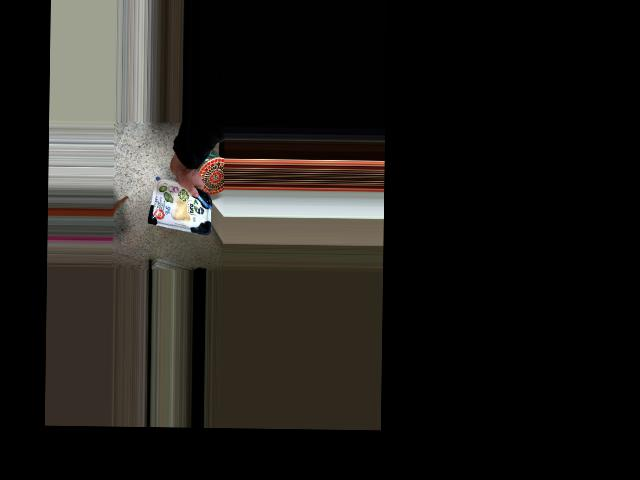cheese: (154, 168, 201, 218)
